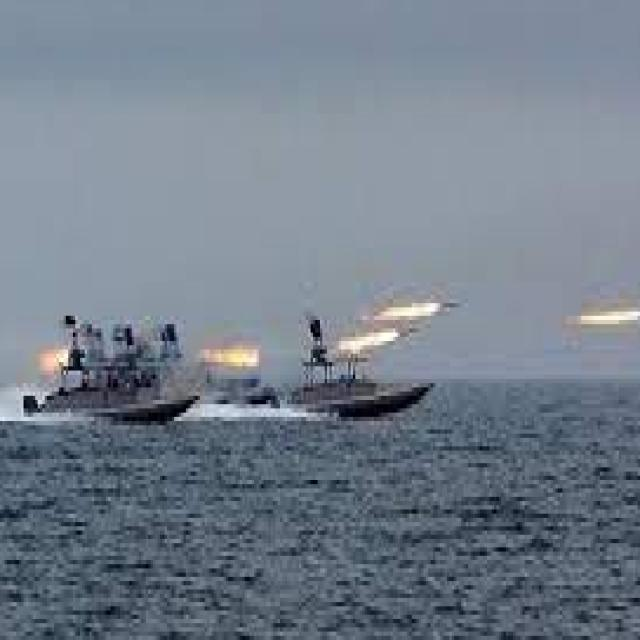navalvessels: (32, 324, 218, 426)
